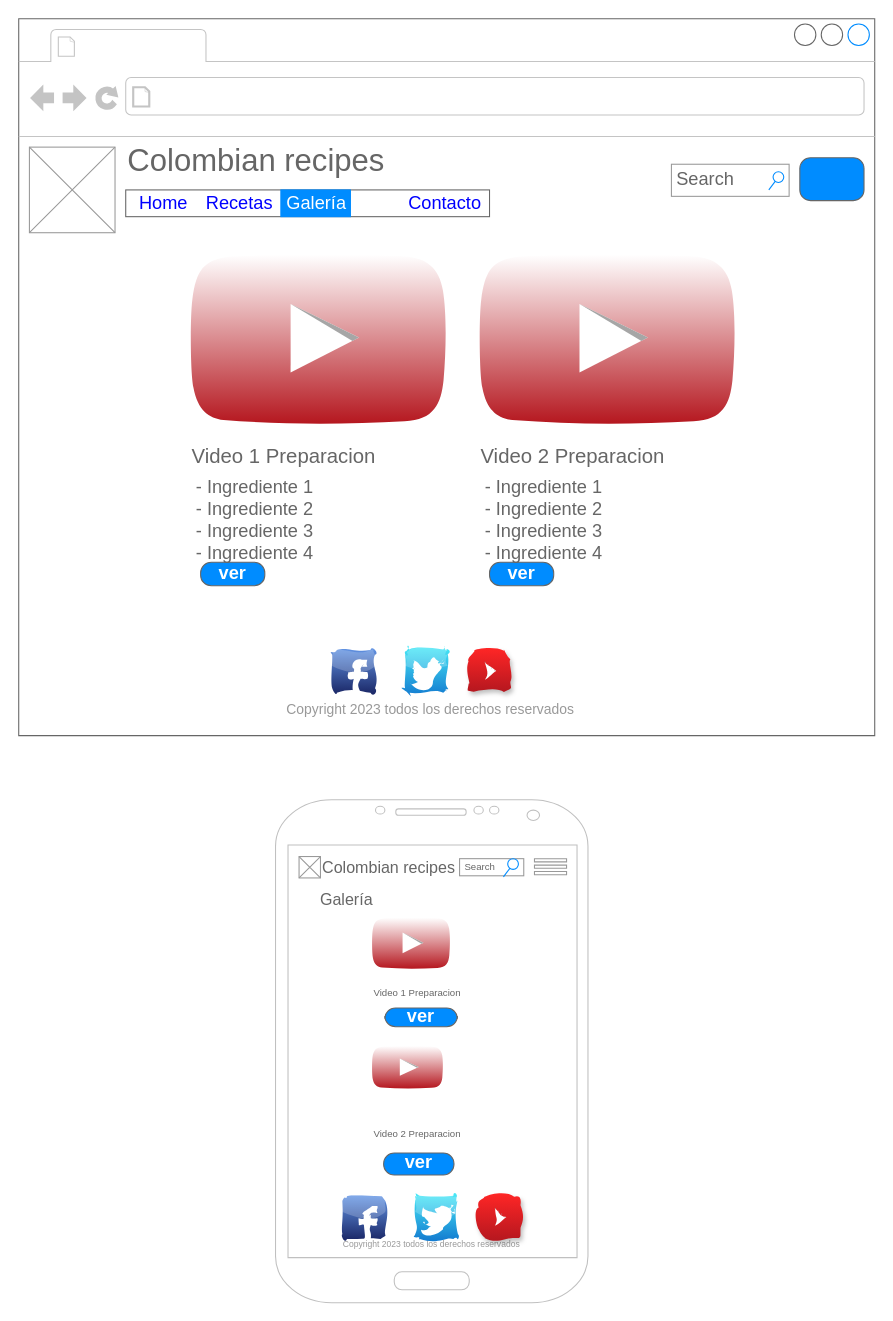
Some shapes in this 893 by 1321 pixel diagram are drawn without their labels. Here are the shapes that lost their labels. From the top down, the centre of each, then its label:
At point 141,44: "Home - Col..".
At point 291,96: "https://colombian-recipes.com".
At point 831,179: "Buscar".
At point 376,202: "Blog".
